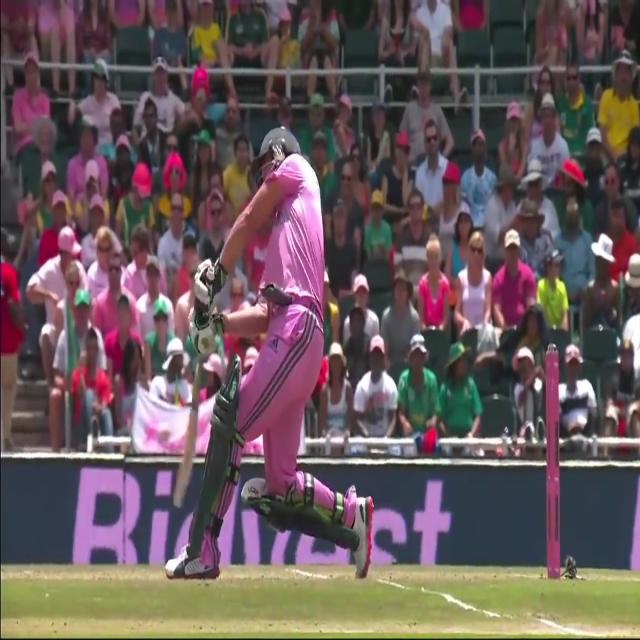Ball: (163, 122, 375, 582)
